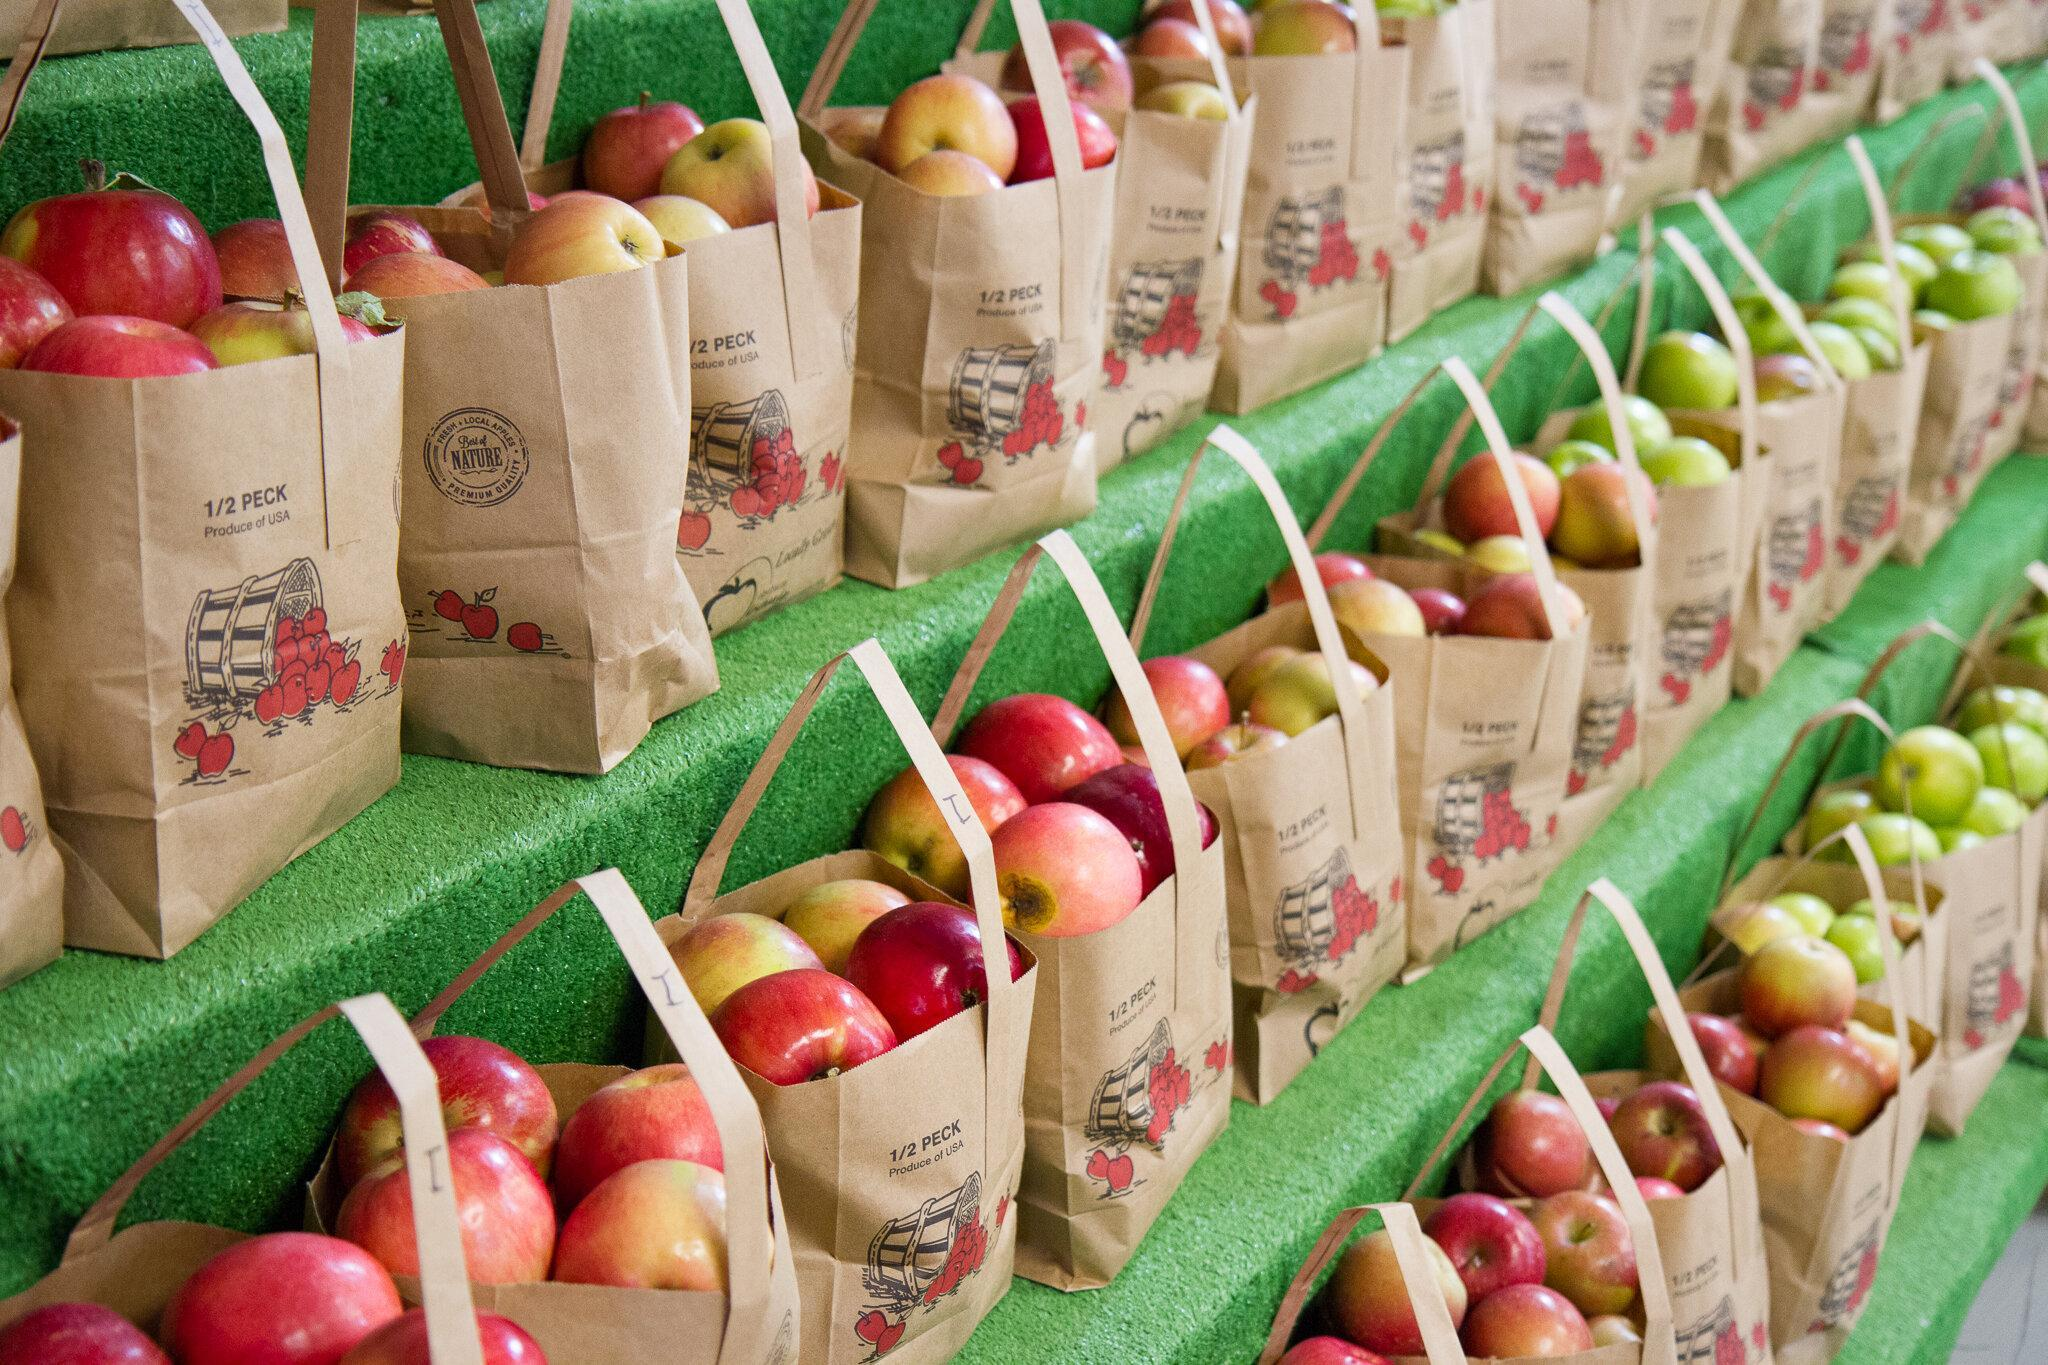apple: (333, 1133, 557, 1303), (148, 1223, 411, 1363), (5, 178, 219, 337), (554, 1066, 722, 1210), (553, 1162, 726, 1287), (708, 969, 895, 1083), (857, 73, 1016, 186), (667, 120, 818, 225), (499, 192, 665, 283), (579, 93, 707, 200), (1603, 1083, 1724, 1191), (1734, 935, 1856, 1036), (783, 877, 908, 973), (1422, 1193, 1546, 1287), (1137, 655, 1230, 757), (1249, 2, 1354, 56)
